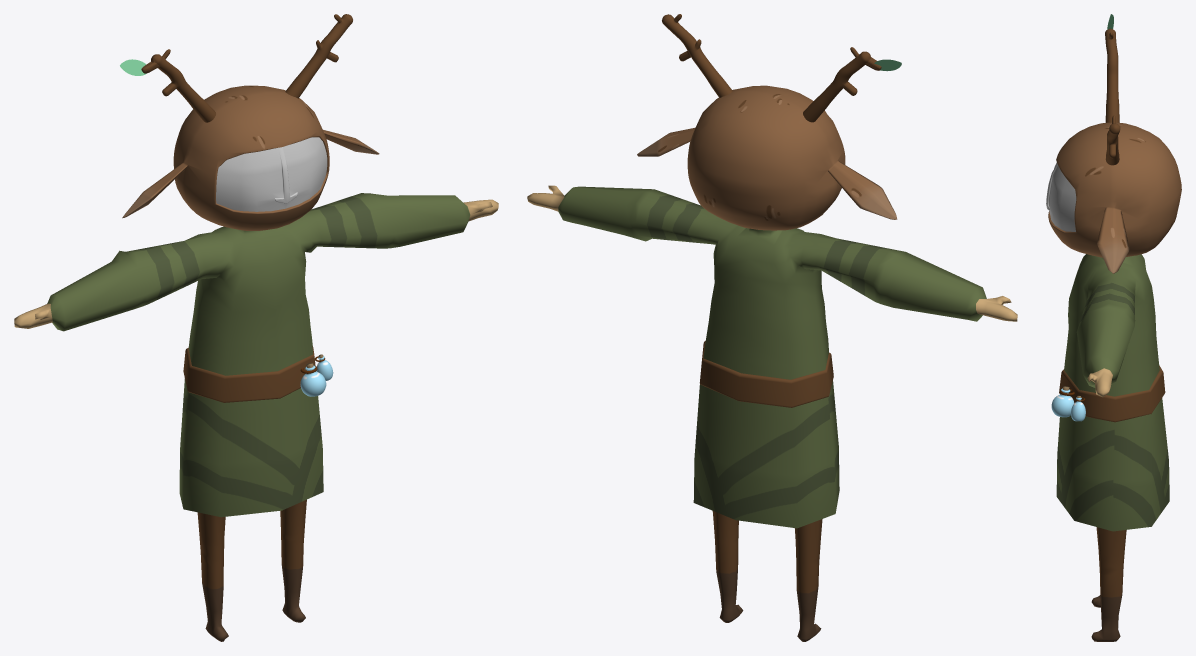
File: Healer.fbx
3 views of the same model, side by side, from view 1: azimuth 30°, elevation 25°; view 2: azimuth 150°, elevation 25°; view 3: azimuth 270°, elevation 25° (orthographic). The views are drawn at different scales.
Visible parts, largest first — view 1: polySurface6; view 2: polySurface6; view 3: polySurface6.
Part boxes in pixels (x1,y1,x2,y2): polySurface6: (14,14,498,641); polySurface6: (527,14,1017,641); polySurface6: (1046,14,1181,641).
Size of the model in its own units: 137 by 161 by 35.93.
